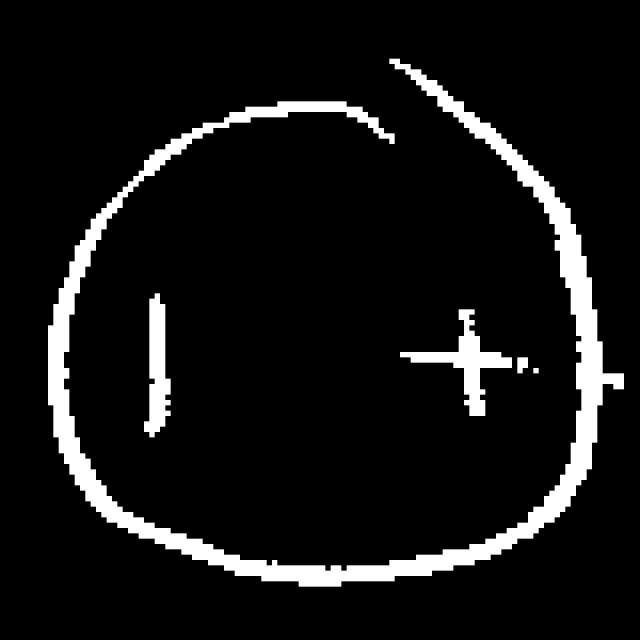voltage_source: (45, 55, 607, 586)
